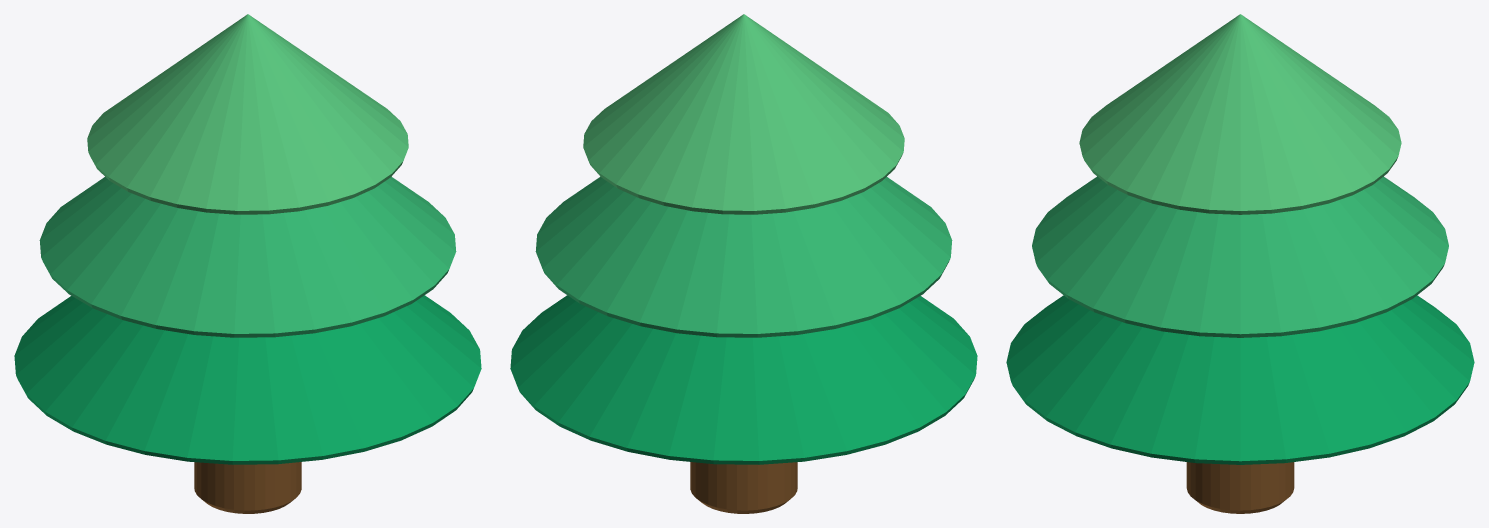
File: 矮松树2.fbx
3 views of the same model, side by side, from view 1: azimuth 30°, elevation 25°; view 2: azimuth 150°, elevation 25°; view 3: azimuth 270°, elevation 25° (orthographic).
Visible parts, largest first — view 1: Cone.002, Cone.001, Cone, Cylinder; view 2: Cone.002, Cone.001, Cone, Cylinder; view 3: Cone.002, Cone.001, Cone, Cylinder.
Boxes of the visible parts, left/top/right/bottom form: Cone.002: left=14, top=295, right=481, bottom=464; Cone.001: left=39, top=176, right=456, bottom=337; Cone: left=87, top=14, right=408, bottom=214; Cylinder: left=194, top=462, right=301, bottom=513; Cone.002: left=510, top=295, right=977, bottom=464; Cone.001: left=535, top=176, right=952, bottom=337; Cone: left=583, top=14, right=904, bottom=214; Cylinder: left=690, top=462, right=797, bottom=513; Cone.002: left=1006, top=295, right=1474, bottom=464; Cone.001: left=1032, top=176, right=1448, bottom=337; Cone: left=1079, top=14, right=1401, bottom=214; Cylinder: left=1186, top=462, right=1294, bottom=513.
Size of the model in its own units: 2.45 by 2.78 by 2.45.
